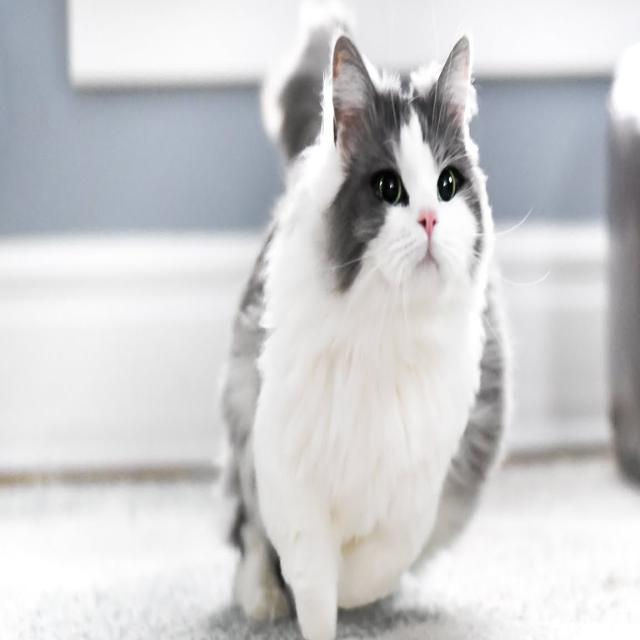Munchkin: (216, 0, 515, 640)
